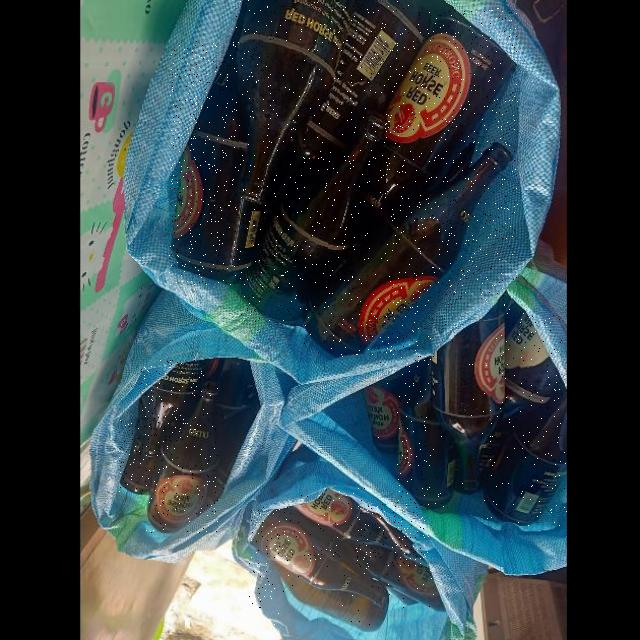glass: (328, 8, 518, 280), (304, 140, 512, 357), (262, 1, 432, 220), (239, 110, 390, 321), (236, 0, 356, 203), (169, 41, 263, 284), (249, 507, 387, 607), (431, 301, 504, 489), (483, 385, 567, 526), (146, 384, 218, 533), (397, 355, 454, 509), (273, 561, 389, 632), (341, 536, 445, 612), (502, 312, 563, 420), (142, 360, 204, 455), (295, 488, 392, 548), (362, 360, 421, 454), (356, 505, 428, 567), (119, 419, 161, 494)
